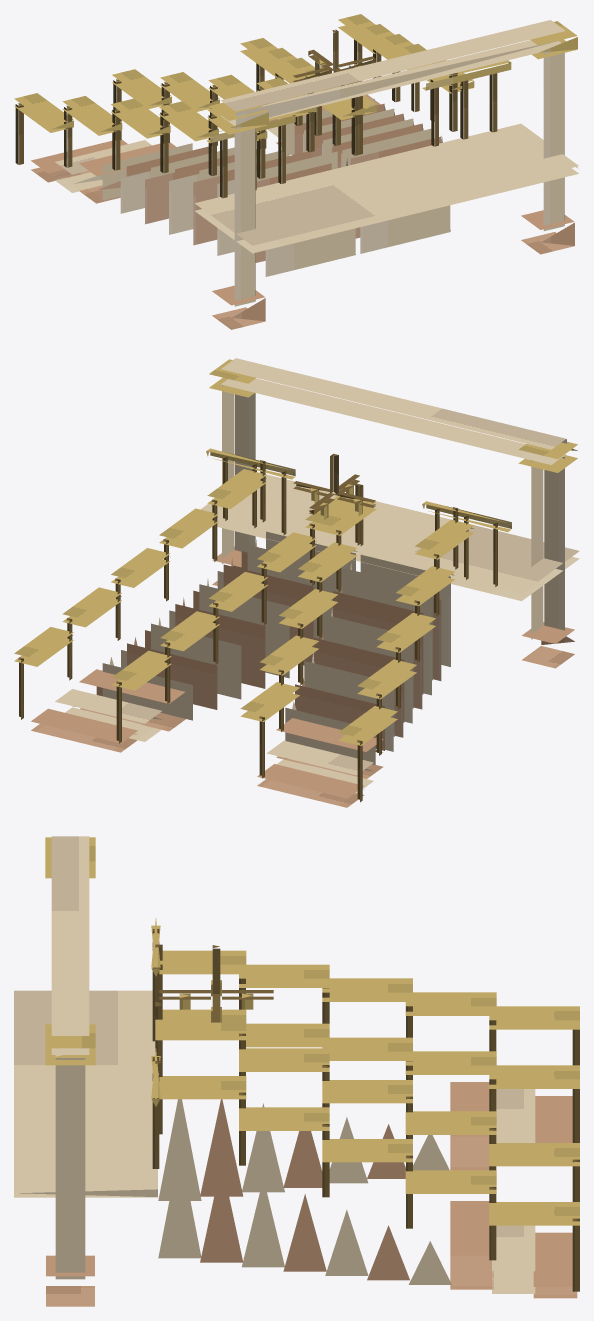
File: grand_foyer_staircase.glb
The picture shows the model from 3 angles, top to bottom: view 1: azimuth 30°, elevation 25°; view 2: azimuth 150°, elevation 25°; view 3: azimuth 270°, elevation 25°; orthographic projection. The views are drawn at different scales.
Visible parts, largest first — view 1: FoyerRaisedGallery, FoyerArchHeader, FoyerColumn_-2.12, FoyerRightStep_09, FoyerLeftStep_09, FoyerColumn_2.12, FoyerLeftStep_03, FoyerLeftStep_05, FoyerLeftStep_04, FoyerLeftStep_06, FoyerLeftStep_01, FoyerRightStep_08 (+41 smaller); view 2: FoyerRaisedGallery, FoyerArchHeader, FoyerColumn_-2.12, FoyerLeftStep_09, FoyerColumn_2.12, FoyerRightStep_06, FoyerLeftStep_08, FoyerRightStep_05, FoyerLeftStep_07, FoyerLeftStep_06, FoyerLeftStep_00, FoyerRightStep_00 (+36 smaller); view 3: FoyerRaisedGallery, FoyerArchHeader, FoyerColumn_2.12, FoyerRightStep_02, FoyerRightStep_01, FoyerLeftStep_02, FoyerRightStep_00, FoyerRightStep_09, FoyerRightStep_08, FoyerRRail_1_0.67, FoyerRRail_1_-0.67, FoyerRRail_0_0.67 (+33 smaller).
Part boxes in pixels (<box>): FoyerRaisedGallery: <box>195,123,578,253</box>; FoyerArchHeader: <box>220,20,565,125</box>; FoyerColumn_-2.12: <box>234,126,255,306</box>; FoyerRightStep_09: <box>342,128,450,253</box>; FoyerLeftStep_09: <box>256,151,355,276</box>; FoyerColumn_2.12: <box>543,51,564,231</box>; FoyerLeftStep_03: <box>102,143,192,213</box>; FoyerLeftStep_05: <box>151,147,234,234</box>; FoyerLeftStep_04: <box>126,146,211,224</box>; FoyerLeftStep_06: <box>175,149,260,245</box>; FoyerLeftStep_01: <box>55,140,151,192</box>; FoyerRightStep_08: <box>332,123,440,238</box>; FoyerRaisedGallery: <box>200,474,579,601</box>; FoyerArchHeader: <box>221,358,566,464</box>; FoyerColumn_-2.12: <box>531,456,564,639</box>; FoyerLeftStep_09: <box>342,554,450,680</box>; FoyerColumn_2.12: <box>222,385,255,563</box>; FoyerRightStep_06: <box>175,590,265,688</box>; FoyerLeftStep_08: <box>333,586,441,694</box>; FoyerRightStep_05: <box>151,610,241,699</box>; FoyerLeftStep_07: <box>323,608,431,708</box>; FoyerLeftStep_06: <box>314,631,422,722</box>; FoyerLeftStep_00: <box>257,764,364,807</box>; FoyerRightStep_00: <box>31,708,137,752</box>; FoyerRaisedGallery: <box>14,990,157,1197</box>; FoyerArchHeader: <box>51,836,89,1054</box>; FoyerColumn_2.12: <box>55,1055,85,1279</box>; FoyerRightStep_02: <box>450,1201,493,1289</box>; FoyerRightStep_01: <box>492,1225,535,1293</box>; FoyerLeftStep_02: <box>450,1082,489,1170</box>; FoyerRightStep_00: <box>533,1232,577,1298</box>; FoyerRightStep_09: <box>158,1147,201,1258</box>; FoyerRightStep_08: <box>200,1163,242,1262</box>; FoyerRRail_1_0.67: <box>405,1170,496,1193</box>; FoyerRRail_1_-0.67: <box>405,1111,496,1134</box>; FoyerRRail_0_0.67: <box>489,1202,579,1225</box>.
Size of the model in its own units: 4.78 by 2.82 by 5.43.
1 material, 1 textured.
